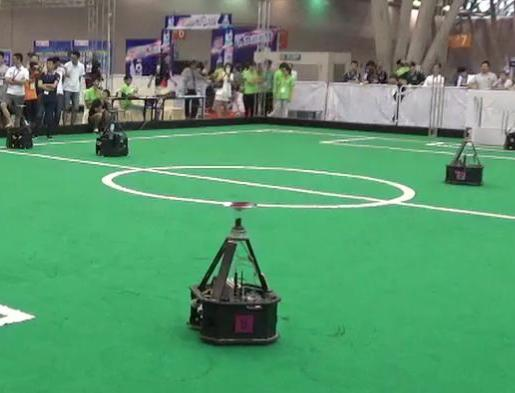robot: (184, 195, 286, 350), (445, 122, 491, 190), (93, 107, 133, 163)
